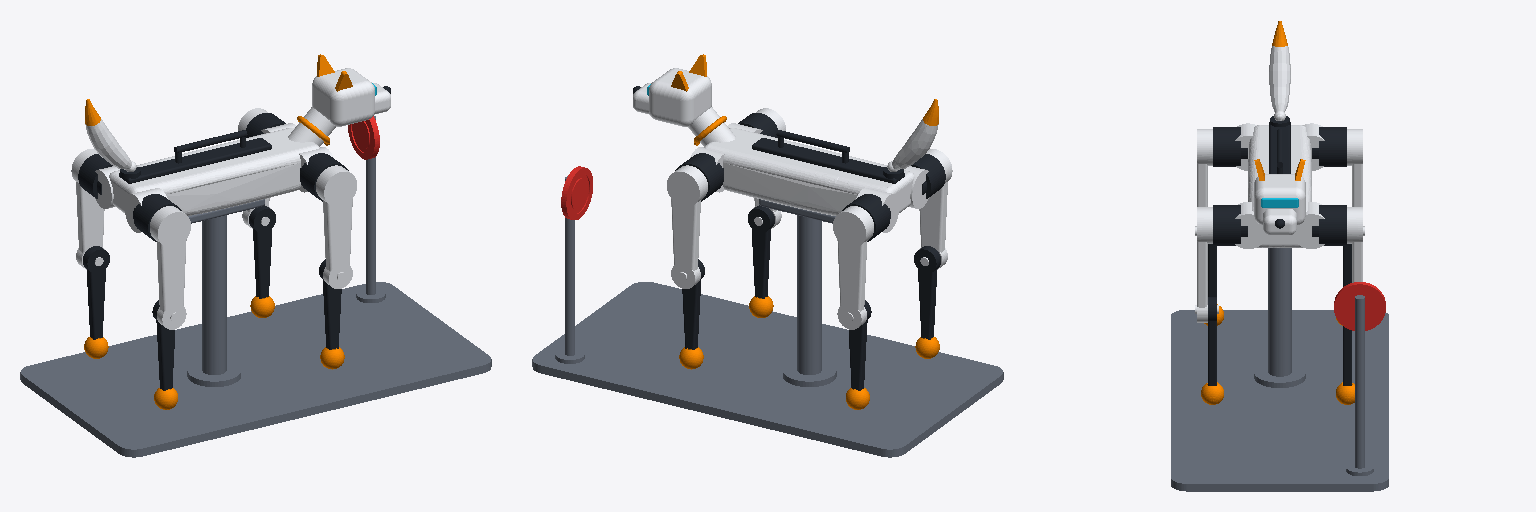
The robot description file, URDF, robot "Sprocket":
<?xml version="1.0"?>
<!-- Sprocket: robot dog on a maintenance stand. Generated by cad/build_sprocket.py.
     Units: metres, kilograms, radians. x forward, y left, z up.
     All link frames are parallel to the world frame at the zero pose. -->
<robot name="Sprocket">
  <link name="stand">
    <inertial>
      <origin xyz="0.102318 0.003711 0.054028" rpy="0 0 0"/>
      <mass value="32.7842"/>
      <inertia ixx="1.103629e+00" ixy="-5.130692e-02" ixz="7.814800e-02" iyy="2.819431e+00" iyz="-1.985851e-02" izz="2.996908e+00"/>
    </inertial>
    <visual>
      <origin xyz="0 0 0" rpy="0 0 0"/>
      <geometry><mesh filename="sprocket_parts/stand.stl"/></geometry>
      <material name="stand_color"><color rgba="0.45 0.48 0.53 1"/></material>
    </visual>
  </link>
  <link name="high_five_pad">
    <inertial>
      <origin xyz="0.03527 0 0" rpy="0 0 0"/>
      <mass value="0.1934"/>
      <inertia ixx="3.729425e-04" ixy="-3.497142e-22" ixz="-3.448225e-20" iyy="1.894764e-04" iyz="4.816011e-21" izz="1.894764e-04"/>
    </inertial>
    <visual>
      <origin xyz="0 0 0" rpy="0 0 0"/>
      <geometry><mesh filename="sprocket_parts/high_five_pad.stl"/></geometry>
      <material name="high_five_pad_color"><color rgba="0.9 0.22 0.2 1"/></material>
    </visual>
  </link>
  <link name="body">
    <inertial>
      <origin xyz="0.004656 0 -0.000045" rpy="0 0 0"/>
      <mass value="3.7231"/>
      <inertia ixx="1.270022e-02" ixy="4.048958e-10" ixz="6.515430e-04" iyy="9.105115e-02" iyz="-4.734172e-12" izz="9.804438e-02"/>
    </inertial>
    <visual>
      <origin xyz="0 0 0" rpy="0 0 0"/>
      <geometry><mesh filename="sprocket_parts/body.stl"/></geometry>
      <material name="body_color"><color rgba="0.93 0.94 0.96 1"/></material>
    </visual>
  </link>
  <link name="spine">
    <inertial>
      <origin xyz="-0.054369 0 0.060706" rpy="0 0 0"/>
      <mass value="0.4484"/>
      <inertia ixx="1.553438e-04" ixy="-3.972558e-11" ixz="-4.813889e-05" iyy="5.461116e-03" iyz="-1.971236e-12" izz="5.456469e-03"/>
    </inertial>
    <visual>
      <origin xyz="0 0 0" rpy="0 0 0"/>
      <geometry><mesh filename="sprocket_parts/spine.stl"/></geometry>
      <material name="spine_color"><color rgba="0.17 0.19 0.22 1"/></material>
    </visual>
  </link>
  <link name="head">
    <inertial>
      <origin xyz="0.093436 0 0.065851" rpy="0 0 0"/>
      <mass value="0.9203"/>
      <inertia ixx="2.157353e-03" ixy="-4.512120e-14" ixz="-9.685188e-04" iyy="4.250885e-03" iyz="-8.695921e-15" izz="3.690174e-03"/>
    </inertial>
    <visual>
      <origin xyz="0 0 0" rpy="0 0 0"/>
      <geometry><mesh filename="sprocket_parts/head.stl"/></geometry>
      <material name="head_color"><color rgba="0.93 0.94 0.96 1"/></material>
    </visual>
  </link>
  <link name="visor">
    <inertial>
      <origin xyz="0.163 0 0.103" rpy="0 0 0"/>
      <mass value="0.0205"/>
      <inertia ixx="1.383414e-05" ixy="2.094384e-21" ixz="-1.430511e-19" iyy="1.149956e-06" iyz="1.138324e-21" izz="1.288797e-05"/>
    </inertial>
    <visual>
      <origin xyz="0 0 0" rpy="0 0 0"/>
      <geometry><mesh filename="sprocket_parts/visor.stl"/></geometry>
      <material name="visor_color"><color rgba="0.1 0.78 0.92 1"/></material>
    </visual>
  </link>
  <link name="ears">
    <inertial>
      <origin xyz="0.07934 0 0.144302" rpy="0 0 0"/>
      <mass value="0.0394"/>
      <inertia ixx="9.108661e-05" ixy="1.944894e-20" ixz="8.343296e-07" iyy="1.096123e-05" iyz="4.173199e-20" izz="8.751492e-05"/>
    </inertial>
    <visual>
      <origin xyz="0 0 0" rpy="0 0 0"/>
      <geometry><mesh filename="sprocket_parts/ears.stl"/></geometry>
      <material name="ears_color"><color rgba="1 0.56 0.02 1"/></material>
    </visual>
  </link>
  <link name="nose">
    <inertial>
      <origin xyz="0.216 0 0.074" rpy="0 0 0"/>
      <mass value="0.008"/>
      <inertia ixx="4.586142e-07" ixy="1.040294e-23" ixz="0.000000e+00" iyy="4.586142e-07" iyz="-1.236882e-24" izz="4.586142e-07"/>
    </inertial>
    <visual>
      <origin xyz="0 0 0" rpy="0 0 0"/>
      <geometry><mesh filename="sprocket_parts/nose.stl"/></geometry>
      <material name="nose_color"><color rgba="0.17 0.19 0.22 1"/></material>
    </visual>
  </link>
  <link name="collar">
    <inertial>
      <origin xyz="0.026298 0 0.019243" rpy="0 0 0"/>
      <mass value="0.0486"/>
      <inertia ixx="6.105953e-05" ixy="4.997660e-14" ixz="2.131985e-05" iyy="4.390916e-05" iyz="-5.599303e-13" izz="5.900396e-05"/>
    </inertial>
    <visual>
      <origin xyz="0 0 0" rpy="0 0 0"/>
      <geometry><mesh filename="sprocket_parts/collar.stl"/></geometry>
      <material name="collar_color"><color rgba="1 0.56 0.02 1"/></material>
    </visual>
  </link>
  <link name="tail">
    <inertial>
      <origin xyz="-0.061091 0 0.069562" rpy="0 0 0"/>
      <mass value="0.3099"/>
      <inertia ixx="4.697329e-04" ixy="4.258003e-13" ixz="2.703342e-04" iyy="6.648462e-04" iyz="-4.169505e-13" izz="2.802632e-04"/>
    </inertial>
    <visual>
      <origin xyz="0 0 0" rpy="0 0 0"/>
      <geometry><mesh filename="sprocket_parts/tail.stl"/></geometry>
      <material name="tail_color"><color rgba="0.93 0.94 0.96 1"/></material>
    </visual>
  </link>
  <link name="tail_tip">
    <inertial>
      <origin xyz="-0.104132 0 0.156132" rpy="0 0 0"/>
      <mass value="0.0328"/>
      <inertia ixx="7.937019e-06" ixy="-5.768602e-10" ixz="9.700288e-07" iyy="8.159198e-06" iyz="-1.731776e-10" izz="4.005645e-06"/>
    </inertial>
    <visual>
      <origin xyz="0 0 0" rpy="0 0 0"/>
      <geometry><mesh filename="sprocket_parts/tail_tip.stl"/></geometry>
      <material name="tail_tip_color"><color rgba="1 0.56 0.02 1"/></material>
    </visual>
  </link>
  <link name="fl_hip">
    <inertial>
      <origin xyz="0 0.045375 0" rpy="0 0 0"/>
      <mass value="1.4732"/>
      <inertia ixx="1.608549e-03" ixy="-6.180078e-21" ixz="6.871627e-20" iyy="1.605841e-03" iyz="-2.018500e-19" izz="1.608549e-03"/>
    </inertial>
    <visual>
      <origin xyz="0 0 0" rpy="0 0 0"/>
      <geometry><mesh filename="sprocket_parts/hip_left.stl"/></geometry>
      <material name="fl_hip_color"><color rgba="0.17 0.19 0.22 1"/></material>
    </visual>
  </link>
  <link name="fl_upper_leg">
    <inertial>
      <origin xyz="0 0.022137 -0.084696" rpy="0 0 0"/>
      <mass value="0.736"/>
      <inertia ixx="5.521631e-03" ixy="-8.304493e-13" ixz="-2.270293e-11" iyy="5.722712e-03" iyz="1.114969e-04" izz="3.489513e-04"/>
    </inertial>
    <visual>
      <origin xyz="0 0 0" rpy="0 0 0"/>
      <geometry><mesh filename="sprocket_parts/upper_leg_left.stl"/></geometry>
      <material name="fl_upper_leg_color"><color rgba="0.93 0.94 0.96 1"/></material>
    </visual>
  </link>
  <link name="fl_lower_leg">
    <inertial>
      <origin xyz="0 0 -0.070583" rpy="0 0 0"/>
      <mass value="0.243"/>
      <inertia ixx="1.029649e-03" ixy="1.897055e-18" ixz="-2.712448e-13" iyy="1.054447e-03" iyz="1.589268e-16" izz="4.378586e-05"/>
    </inertial>
    <visual>
      <origin xyz="0 0 0" rpy="0 0 0"/>
      <geometry><mesh filename="sprocket_parts/lower_leg.stl"/></geometry>
      <material name="fl_lower_leg_color"><color rgba="0.17 0.19 0.22 1"/></material>
    </visual>
  </link>
  <link name="fl_paw">
    <inertial>
      <origin xyz="0 0 0.000032" rpy="0 0 0"/>
      <mass value="0.1013"/>
      <inertia ixx="3.181142e-05" ixy="3.993481e-22" ixz="-1.017355e-20" iyy="3.181142e-05" iyz="4.376487e-22" izz="3.173855e-05"/>
    </inertial>
    <visual>
      <origin xyz="0 0 0" rpy="0 0 0"/>
      <geometry><mesh filename="sprocket_parts/paw.stl"/></geometry>
      <material name="fl_paw_color"><color rgba="1 0.56 0.02 1"/></material>
    </visual>
  </link>
  <link name="fr_hip">
    <inertial>
      <origin xyz="0 -0.045375 0" rpy="0 0 0"/>
      <mass value="1.4732"/>
      <inertia ixx="1.608549e-03" ixy="6.180078e-21" ixz="6.871627e-20" iyy="1.605841e-03" iyz="2.018500e-19" izz="1.608549e-03"/>
    </inertial>
    <visual>
      <origin xyz="0 0 0" rpy="0 0 0"/>
      <geometry><mesh filename="sprocket_parts/hip_right.stl"/></geometry>
      <material name="fr_hip_color"><color rgba="0.17 0.19 0.22 1"/></material>
    </visual>
  </link>
  <link name="fr_upper_leg">
    <inertial>
      <origin xyz="0 -0.022137 -0.084696" rpy="0 0 0"/>
      <mass value="0.736"/>
      <inertia ixx="5.521631e-03" ixy="8.304493e-13" ixz="-2.270293e-11" iyy="5.722712e-03" iyz="-1.114969e-04" izz="3.489513e-04"/>
    </inertial>
    <visual>
      <origin xyz="0 0 0" rpy="0 0 0"/>
      <geometry><mesh filename="sprocket_parts/upper_leg_right.stl"/></geometry>
      <material name="fr_upper_leg_color"><color rgba="0.93 0.94 0.96 1"/></material>
    </visual>
  </link>
  <link name="fr_lower_leg">
    <inertial>
      <origin xyz="0 0 -0.070583" rpy="0 0 0"/>
      <mass value="0.243"/>
      <inertia ixx="1.029649e-03" ixy="1.897055e-18" ixz="-2.712448e-13" iyy="1.054447e-03" iyz="1.589268e-16" izz="4.378586e-05"/>
    </inertial>
    <visual>
      <origin xyz="0 0 0" rpy="0 0 0"/>
      <geometry><mesh filename="sprocket_parts/lower_leg.stl"/></geometry>
      <material name="fr_lower_leg_color"><color rgba="0.17 0.19 0.22 1"/></material>
    </visual>
  </link>
  <link name="fr_paw">
    <inertial>
      <origin xyz="0 0 0.000032" rpy="0 0 0"/>
      <mass value="0.1013"/>
      <inertia ixx="3.181142e-05" ixy="3.993481e-22" ixz="-1.017355e-20" iyy="3.181142e-05" iyz="4.376487e-22" izz="3.173855e-05"/>
    </inertial>
    <visual>
      <origin xyz="0 0 0" rpy="0 0 0"/>
      <geometry><mesh filename="sprocket_parts/paw.stl"/></geometry>
      <material name="fr_paw_color"><color rgba="1 0.56 0.02 1"/></material>
    </visual>
  </link>
  <link name="rl_hip">
    <inertial>
      <origin xyz="0 0.045375 0" rpy="0 0 0"/>
      <mass value="1.4732"/>
      <inertia ixx="1.608549e-03" ixy="-6.180078e-21" ixz="6.871627e-20" iyy="1.605841e-03" iyz="-2.018500e-19" izz="1.608549e-03"/>
    </inertial>
    <visual>
      <origin xyz="0 0 0" rpy="0 0 0"/>
      <geometry><mesh filename="sprocket_parts/hip_left.stl"/></geometry>
      <material name="rl_hip_color"><color rgba="0.17 0.19 0.22 1"/></material>
    </visual>
  </link>
  <link name="rl_upper_leg">
    <inertial>
      <origin xyz="0 0.022137 -0.084696" rpy="0 0 0"/>
      <mass value="0.736"/>
      <inertia ixx="5.521631e-03" ixy="-8.304493e-13" ixz="-2.270293e-11" iyy="5.722712e-03" iyz="1.114969e-04" izz="3.489513e-04"/>
    </inertial>
    <visual>
      <origin xyz="0 0 0" rpy="0 0 0"/>
      <geometry><mesh filename="sprocket_parts/upper_leg_left.stl"/></geometry>
      <material name="rl_upper_leg_color"><color rgba="0.93 0.94 0.96 1"/></material>
    </visual>
  </link>
  <link name="rl_lower_leg">
    <inertial>
      <origin xyz="0 0 -0.070583" rpy="0 0 0"/>
      <mass value="0.243"/>
      <inertia ixx="1.029649e-03" ixy="1.897055e-18" ixz="-2.712448e-13" iyy="1.054447e-03" iyz="1.589268e-16" izz="4.378586e-05"/>
    </inertial>
    <visual>
      <origin xyz="0 0 0" rpy="0 0 0"/>
      <geometry><mesh filename="sprocket_parts/lower_leg.stl"/></geometry>
      <material name="rl_lower_leg_color"><color rgba="0.17 0.19 0.22 1"/></material>
    </visual>
  </link>
  <link name="rl_paw">
    <inertial>
      <origin xyz="0 0 0.000032" rpy="0 0 0"/>
      <mass value="0.1013"/>
      <inertia ixx="3.181142e-05" ixy="3.993481e-22" ixz="-1.017355e-20" iyy="3.181142e-05" iyz="4.376487e-22" izz="3.173855e-05"/>
    </inertial>
    <visual>
      <origin xyz="0 0 0" rpy="0 0 0"/>
      <geometry><mesh filename="sprocket_parts/paw.stl"/></geometry>
      <material name="rl_paw_color"><color rgba="1 0.56 0.02 1"/></material>
    </visual>
  </link>
  <link name="rr_hip">
    <inertial>
      <origin xyz="0 -0.045375 0" rpy="0 0 0"/>
      <mass value="1.4732"/>
      <inertia ixx="1.608549e-03" ixy="6.180078e-21" ixz="6.871627e-20" iyy="1.605841e-03" iyz="2.018500e-19" izz="1.608549e-03"/>
    </inertial>
    <visual>
      <origin xyz="0 0 0" rpy="0 0 0"/>
      <geometry><mesh filename="sprocket_parts/hip_right.stl"/></geometry>
      <material name="rr_hip_color"><color rgba="0.17 0.19 0.22 1"/></material>
    </visual>
  </link>
  <link name="rr_upper_leg">
    <inertial>
      <origin xyz="0 -0.022137 -0.084696" rpy="0 0 0"/>
      <mass value="0.736"/>
      <inertia ixx="5.521631e-03" ixy="8.304493e-13" ixz="-2.270293e-11" iyy="5.722712e-03" iyz="-1.114969e-04" izz="3.489513e-04"/>
    </inertial>
    <visual>
      <origin xyz="0 0 0" rpy="0 0 0"/>
      <geometry><mesh filename="sprocket_parts/upper_leg_right.stl"/></geometry>
      <material name="rr_upper_leg_color"><color rgba="0.93 0.94 0.96 1"/></material>
    </visual>
  </link>
  <link name="rr_lower_leg">
    <inertial>
      <origin xyz="0 0 -0.070583" rpy="0 0 0"/>
      <mass value="0.243"/>
      <inertia ixx="1.029649e-03" ixy="1.897055e-18" ixz="-2.712448e-13" iyy="1.054447e-03" iyz="1.589268e-16" izz="4.378586e-05"/>
    </inertial>
    <visual>
      <origin xyz="0 0 0" rpy="0 0 0"/>
      <geometry><mesh filename="sprocket_parts/lower_leg.stl"/></geometry>
      <material name="rr_lower_leg_color"><color rgba="0.17 0.19 0.22 1"/></material>
    </visual>
  </link>
  <link name="rr_paw">
    <inertial>
      <origin xyz="0 0 0.000032" rpy="0 0 0"/>
      <mass value="0.1013"/>
      <inertia ixx="3.181142e-05" ixy="3.993481e-22" ixz="-1.017355e-20" iyy="3.181142e-05" iyz="4.376487e-22" izz="3.173855e-05"/>
    </inertial>
    <visual>
      <origin xyz="0 0 0" rpy="0 0 0"/>
      <geometry><mesh filename="sprocket_parts/paw.stl"/></geometry>
      <material name="rr_paw_color"><color rgba="1 0.56 0.02 1"/></material>
    </visual>
  </link>
  <joint name="body_mount" type="fixed">
    <origin xyz="0 0 0.52" rpy="0 0 0"/>
    <parent link="stand"/>
    <child link="body"/>
  </joint>
  <joint name="pad_mount" type="fixed">
    <origin xyz="0.47 0.19 0.44" rpy="0 0 0"/>
    <parent link="stand"/>
    <child link="high_five_pad"/>
  </joint>
  <joint name="spine_mount" type="fixed">
    <origin xyz="0 0 0" rpy="0 0 0"/>
    <parent link="body"/>
    <child link="spine"/>
  </joint>
  <joint name="neck" type="fixed">
    <origin xyz="0.238 0 0.04" rpy="0 0 0"/>
    <parent link="body"/>
    <child link="head"/>
  </joint>
  <joint name="visor_mount" type="fixed">
    <origin xyz="0 0 0" rpy="0 0 0"/>
    <parent link="head"/>
    <child link="visor"/>
  </joint>
  <joint name="ears_mount" type="fixed">
    <origin xyz="0 0 0" rpy="0 0 0"/>
    <parent link="head"/>
    <child link="ears"/>
  </joint>
  <joint name="nose_mount" type="fixed">
    <origin xyz="0 0 0" rpy="0 0 0"/>
    <parent link="head"/>
    <child link="nose"/>
  </joint>
  <joint name="collar_mount" type="fixed">
    <origin xyz="0 0 0" rpy="0 0 0"/>
    <parent link="head"/>
    <child link="collar"/>
  </joint>
  <joint name="tail_wag" type="revolute">
    <origin xyz="-0.222 0 0.08" rpy="0 0 0"/>
    <parent link="body"/>
    <child link="tail"/>
    <axis xyz="0 0 1"/>
    <limit lower="-0.87266" upper="0.87266" effort="30" velocity="10"/>
  </joint>
  <joint name="tail_tip_mount" type="fixed">
    <origin xyz="0 0 0" rpy="0 0 0"/>
    <parent link="tail"/>
    <child link="tail_tip"/>
  </joint>
  <joint name="fl_hip_abduct" type="revolute">
    <origin xyz="0.22 0.075 0" rpy="0 0 0"/>
    <parent link="body"/>
    <child link="fl_hip"/>
    <axis xyz="1 0 0"/>
    <limit lower="-0.69813" upper="0.69813" effort="30" velocity="10"/>
  </joint>
  <joint name="fl_hip_pitch" type="revolute">
    <origin xyz="0 0.085 0" rpy="0 0 0"/>
    <parent link="fl_hip"/>
    <child link="fl_upper_leg"/>
    <axis xyz="0 1 0"/>
    <limit lower="-2.61799" upper="2.61799" effort="30" velocity="10"/>
  </joint>
  <joint name="fl_knee" type="revolute">
    <origin xyz="0 0 -0.22" rpy="0 0 0"/>
    <parent link="fl_upper_leg"/>
    <child link="fl_lower_leg"/>
    <axis xyz="0 1 0"/>
    <limit lower="-2.79253" upper="0.08727" effort="30" velocity="10"/>
  </joint>
  <joint name="fl_foot" type="fixed">
    <origin xyz="0 0 -0.22" rpy="0 0 0"/>
    <parent link="fl_lower_leg"/>
    <child link="fl_paw"/>
  </joint>
  <joint name="fr_hip_abduct" type="revolute">
    <origin xyz="0.22 -0.075 0" rpy="0 0 0"/>
    <parent link="body"/>
    <child link="fr_hip"/>
    <axis xyz="1 0 0"/>
    <limit lower="-0.69813" upper="0.69813" effort="30" velocity="10"/>
  </joint>
  <joint name="fr_hip_pitch" type="revolute">
    <origin xyz="0 -0.085 0" rpy="0 0 0"/>
    <parent link="fr_hip"/>
    <child link="fr_upper_leg"/>
    <axis xyz="0 1 0"/>
    <limit lower="-2.61799" upper="2.61799" effort="30" velocity="10"/>
  </joint>
  <joint name="fr_knee" type="revolute">
    <origin xyz="0 0 -0.22" rpy="0 0 0"/>
    <parent link="fr_upper_leg"/>
    <child link="fr_lower_leg"/>
    <axis xyz="0 1 0"/>
    <limit lower="-2.79253" upper="0.08727" effort="30" velocity="10"/>
  </joint>
  <joint name="fr_foot" type="fixed">
    <origin xyz="0 0 -0.22" rpy="0 0 0"/>
    <parent link="fr_lower_leg"/>
    <child link="fr_paw"/>
  </joint>
  <joint name="rl_hip_abduct" type="revolute">
    <origin xyz="-0.22 0.075 0" rpy="0 0 0"/>
    <parent link="body"/>
    <child link="rl_hip"/>
    <axis xyz="1 0 0"/>
    <limit lower="-0.69813" upper="0.69813" effort="30" velocity="10"/>
  </joint>
  <joint name="rl_hip_pitch" type="revolute">
    <origin xyz="0 0.085 0" rpy="0 0 0"/>
    <parent link="rl_hip"/>
    <child link="rl_upper_leg"/>
    <axis xyz="0 1 0"/>
    <limit lower="-2.61799" upper="2.61799" effort="30" velocity="10"/>
  </joint>
  <joint name="rl_knee" type="revolute">
    <origin xyz="0 0 -0.22" rpy="0 0 0"/>
    <parent link="rl_upper_leg"/>
    <child link="rl_lower_leg"/>
    <axis xyz="0 1 0"/>
    <limit lower="-2.79253" upper="0.08727" effort="30" velocity="10"/>
  </joint>
  <joint name="rl_foot" type="fixed">
    <origin xyz="0 0 -0.22" rpy="0 0 0"/>
    <parent link="rl_lower_leg"/>
    <child link="rl_paw"/>
  </joint>
  <joint name="rr_hip_abduct" type="revolute">
    <origin xyz="-0.22 -0.075 0" rpy="0 0 0"/>
    <parent link="body"/>
    <child link="rr_hip"/>
    <axis xyz="1 0 0"/>
    <limit lower="-0.69813" upper="0.69813" effort="30" velocity="10"/>
  </joint>
  <joint name="rr_hip_pitch" type="revolute">
    <origin xyz="0 -0.085 0" rpy="0 0 0"/>
    <parent link="rr_hip"/>
    <child link="rr_upper_leg"/>
    <axis xyz="0 1 0"/>
    <limit lower="-2.61799" upper="2.61799" effort="30" velocity="10"/>
  </joint>
  <joint name="rr_knee" type="revolute">
    <origin xyz="0 0 -0.22" rpy="0 0 0"/>
    <parent link="rr_upper_leg"/>
    <child link="rr_lower_leg"/>
    <axis xyz="0 1 0"/>
    <limit lower="-2.79253" upper="0.08727" effort="30" velocity="10"/>
  </joint>
  <joint name="rr_foot" type="fixed">
    <origin xyz="0 0 -0.22" rpy="0 0 0"/>
    <parent link="rr_lower_leg"/>
    <child link="rr_paw"/>
  </joint>
</robot>

--- What the picture shows (computed from the rendered views, not written in the file) ---
3 views of the same robot in one strip: view 1: azimuth 30°, elevation 25°; view 2: azimuth 150°, elevation 25°; view 3: azimuth 270°, elevation 25° (orthographic).
Robot: Sprocket — 27 links, 26 joints (13 revolute, 13 fixed); root link stand; default pose: every joint at zero.
Links seen in each view (by area): view 1: stand, body, head, rr_upper_leg, fr_upper_leg, spine, rl_upper_leg, rl_lower_leg, fl_lower_leg, tail, fr_lower_leg, rr_lower_leg (+5 smaller); view 2: stand, body, head, rl_upper_leg, fl_upper_leg, spine, rr_upper_leg, rr_lower_leg, fr_lower_leg, high_five_pad, tail, fl_lower_leg (+5 smaller); view 3: stand, body, head, high_five_pad, fr_upper_leg, tail, spine, fl_hip, fr_hip, rl_hip, rr_hip, rl_upper_leg (+3 smaller).
Boxes of the visible links, x1,y1,x2,y2 form: stand: [20, 116, 491, 457]; body: [95, 123, 333, 232]; head: [288, 68, 390, 146]; rr_upper_leg: [150, 206, 190, 329]; fr_upper_leg: [316, 165, 356, 288]; spine: [119, 130, 271, 183]; rl_upper_leg: [71, 149, 104, 269]; rl_lower_leg: [83, 246, 109, 339]; fl_lower_leg: [249, 205, 275, 298]; tail: [85, 119, 136, 171]; fr_lower_leg: [319, 259, 341, 349]; rr_lower_leg: [152, 300, 174, 390]; stand: [532, 176, 1003, 457]; body: [690, 123, 928, 232]; head: [633, 68, 735, 146]; rl_upper_leg: [833, 206, 873, 329]; fl_upper_leg: [667, 165, 707, 288]; spine: [752, 130, 904, 183]; rr_upper_leg: [919, 149, 952, 269]; rr_lower_leg: [914, 246, 940, 339]; fr_lower_leg: [748, 205, 774, 298]; high_five_pad: [561, 166, 592, 219]; tail: [887, 119, 938, 171]; fl_lower_leg: [682, 259, 704, 349]; stand: [1171, 248, 1388, 491]; body: [1235, 123, 1324, 248]; head: [1254, 174, 1305, 234]; high_five_pad: [1334, 282, 1385, 330]; fr_upper_leg: [1195, 207, 1218, 322]; tail: [1269, 46, 1290, 120]; spine: [1269, 116, 1290, 173]; fl_hip: [1312, 205, 1346, 245]; fr_hip: [1213, 205, 1247, 245]; rl_hip: [1312, 127, 1346, 166]; rr_hip: [1213, 127, 1247, 166]; rl_upper_leg: [1347, 129, 1364, 235].
Size in the robot's own frame: 0.98 by 0.52 by 0.7983 metres.
Meshes: 17 distinct files referenced, 27 mesh visuals loaded (17 binary STL).
